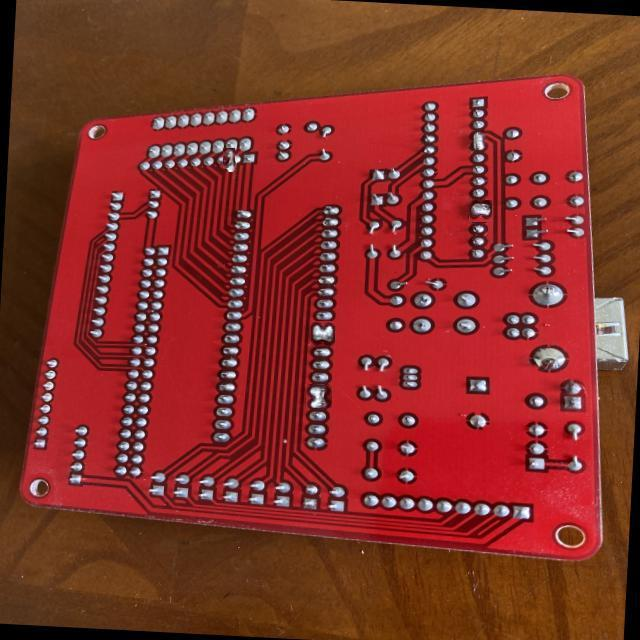damged: (305, 384, 332, 408), (311, 321, 335, 346), (468, 200, 492, 223), (469, 130, 488, 152), (219, 151, 238, 170)
